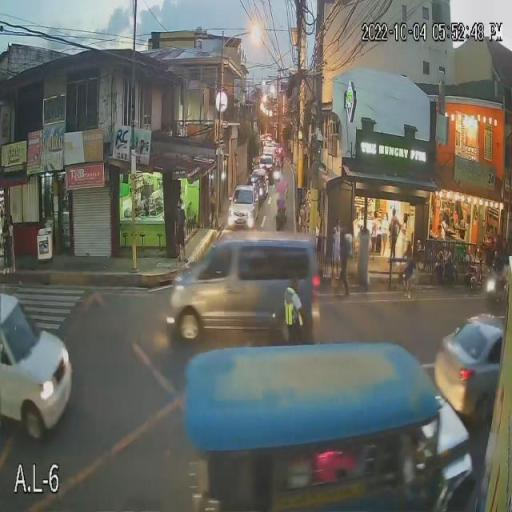motorcycle: (483, 274, 510, 304)
